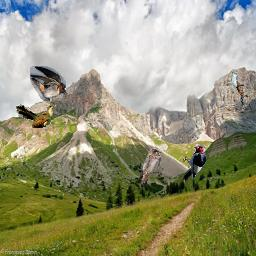Cuckoo: (16, 104, 56, 128), (232, 71, 244, 111)
Swallow: (30, 66, 66, 105), (138, 148, 161, 188)
Woodpecker: (181, 143, 206, 183)
